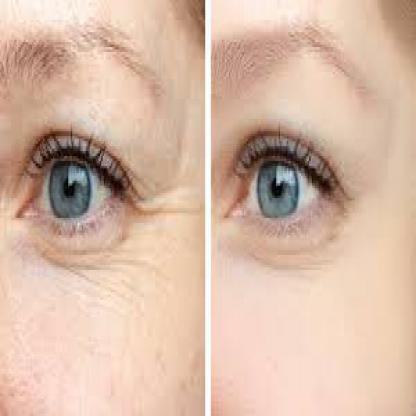wrinkle: (27, 257, 160, 317), (140, 178, 203, 243), (239, 240, 330, 280)
